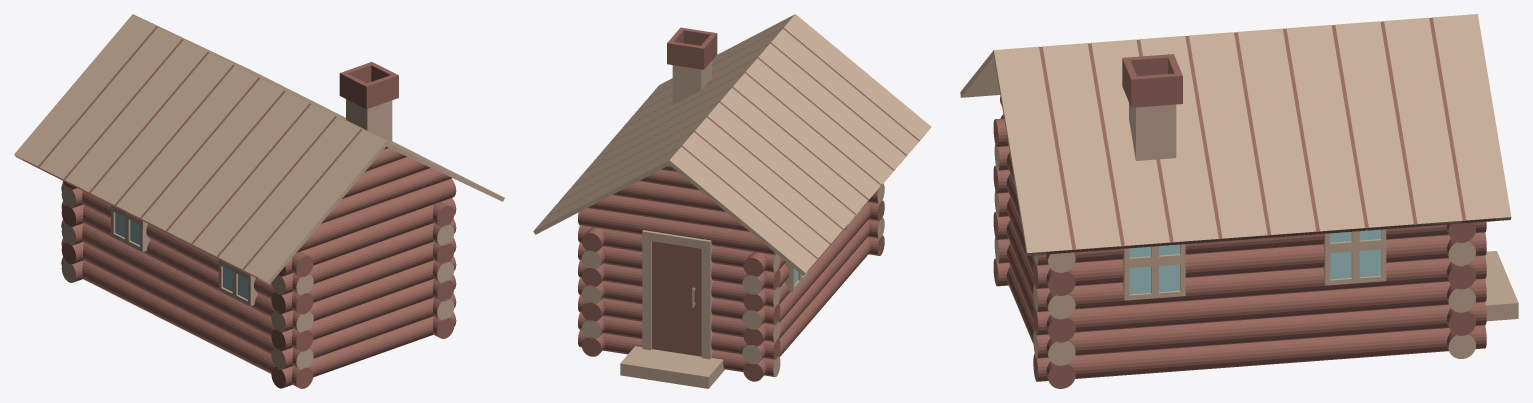
File: Cabin.glb
3 renders of one model, left to right at view 1: azimuth 30°, elevation 25°; view 2: azimuth 150°, elevation 25°; view 3: azimuth 270°, elevation 25°, orthographic. The views are drawn at different scales.
Parts seen in each view (by area): view 1: Box057, Box053, Box065, Box052, Box055, Box063, Box058, Box056, Box059, Box064, Box042, Cylinder051 (+23 smaller); view 2: Box050, Box052, Box057, Box059, Box065, Box063, Box064, Box053, Box055, Box056, Box058, Cylinder072 (+41 smaller); view 3: Box070, Cylinder047, Cylinder039, Cylinder058, Box060, Box067, Box066, Box069, Box051, Box054, Box068, Box062 (+26 smaller).
Boxes of the visible parts, x1,y1,x2,y2 form: Box057: (244,130,385,284); Box053: (218,117,360,271); Box065: (91,52,232,206); Box052: (14,14,156,166); Box055: (116,65,258,219); Box063: (142,78,283,231); Box058: (65,40,206,193); Box056: (193,104,334,258); Box059: (39,27,181,179); Box064: (167,91,309,243); Box042: (22,27,361,279); Cylinder051: (61,219,313,351); Box050: (652,241,701,356); Box052: (669,147,817,275); Box057: (784,14,931,140); Box059: (682,132,829,258); Box065: (707,102,855,228); Box063: (733,73,880,199); Box064: (746,58,893,184); Box053: (771,29,918,154); Box055: (720,88,867,214); Box056: (758,43,905,169); Box058: (694,117,842,243); Cylinder072: (578,208,775,255); Box070: (993,46,1072,255); Cylinder047: (1033,279,1486,335); Cylinder039: (1033,302,1486,358); Cylinder058: (1033,325,1486,381); Box060: (1384,17,1462,226); Box067: (1432,14,1511,223); Box066: (1237,28,1316,237); Box069: (1042,43,1121,252); Box051: (1286,25,1364,234); Box054: (1189,32,1267,241); Box068: (1335,21,1413,230); Box062: (1091,39,1169,248).
Size of the model in its own units: 487220 by 341113 by 583749.
